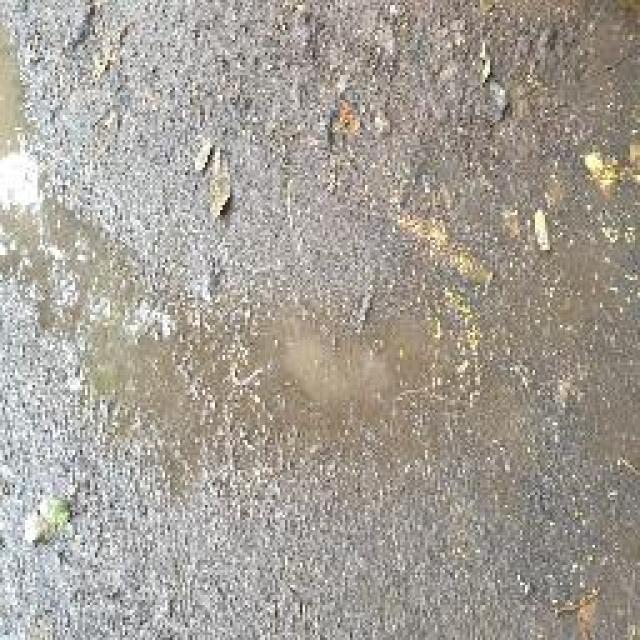puddle: (1, 34, 195, 416)
